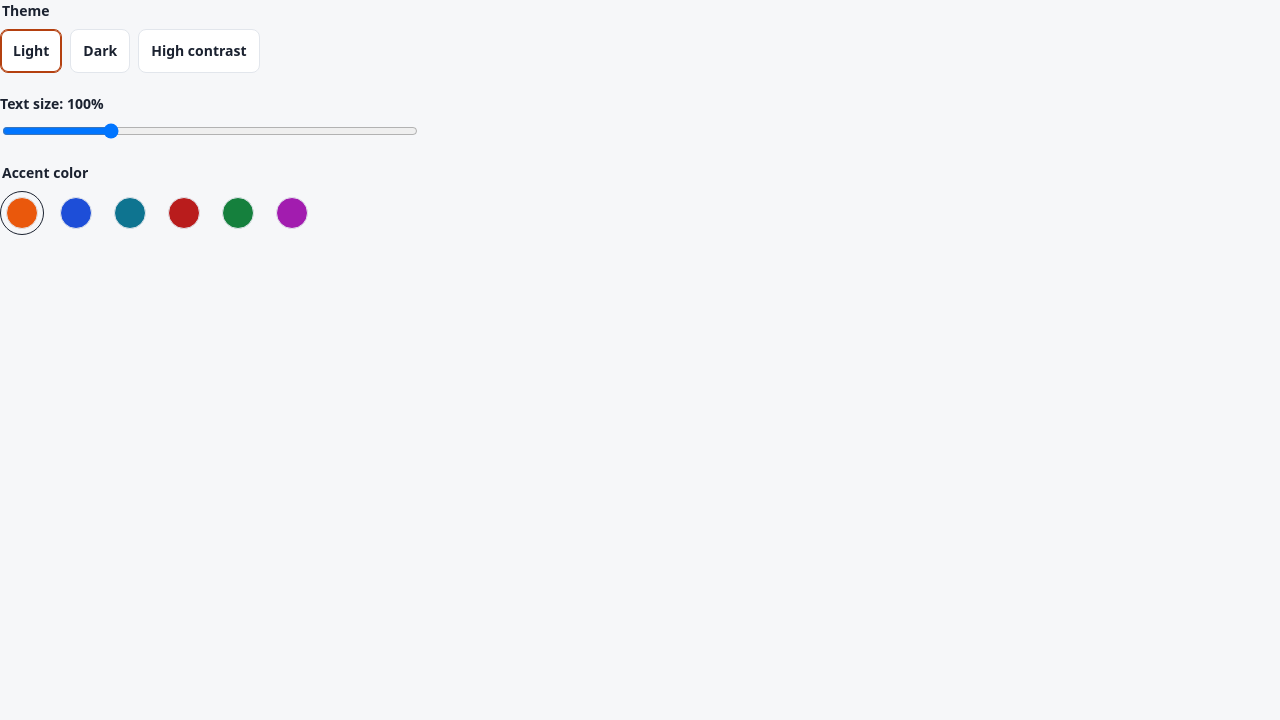
AppearanceSettings › keeps the high-contrast accent explanation at full contrast, outside the dimmed disabled fieldset
Click the button "High contrast": click(199, 51) left=138, top=29, right=260, bottom=73
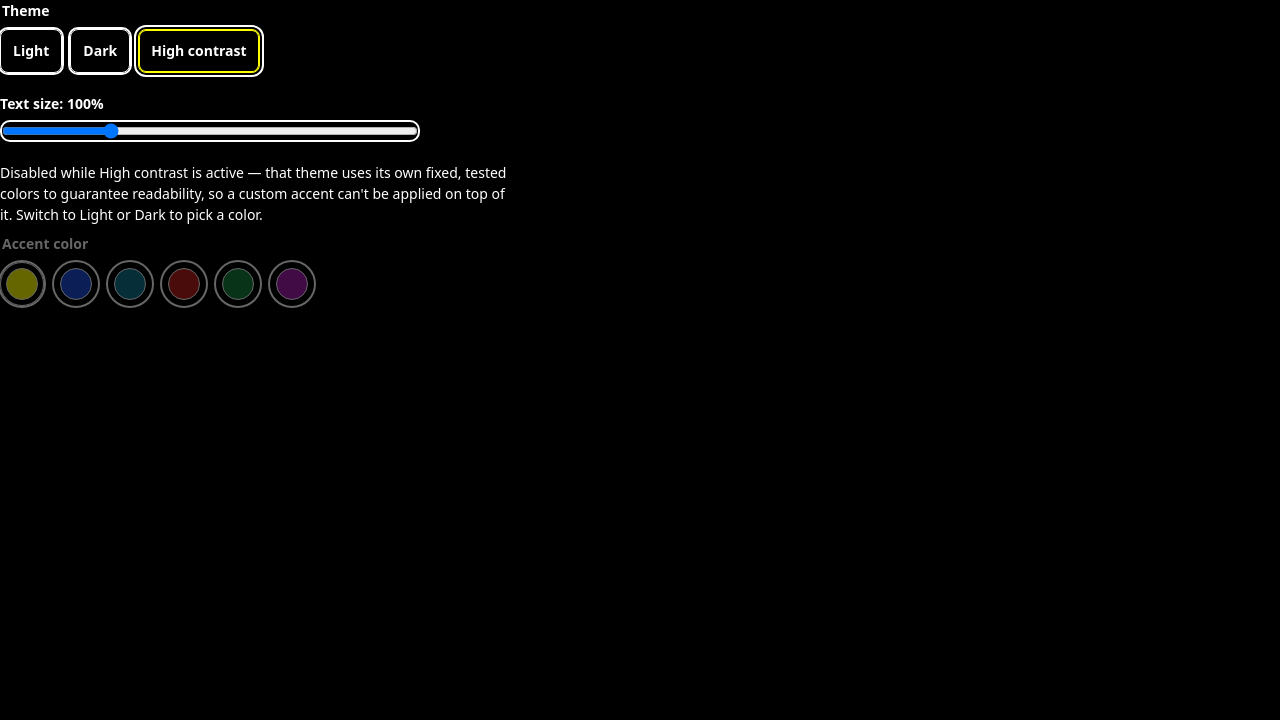
Check: the element "Accent color" is disabled, box left=0, top=234, right=314, bottom=306
